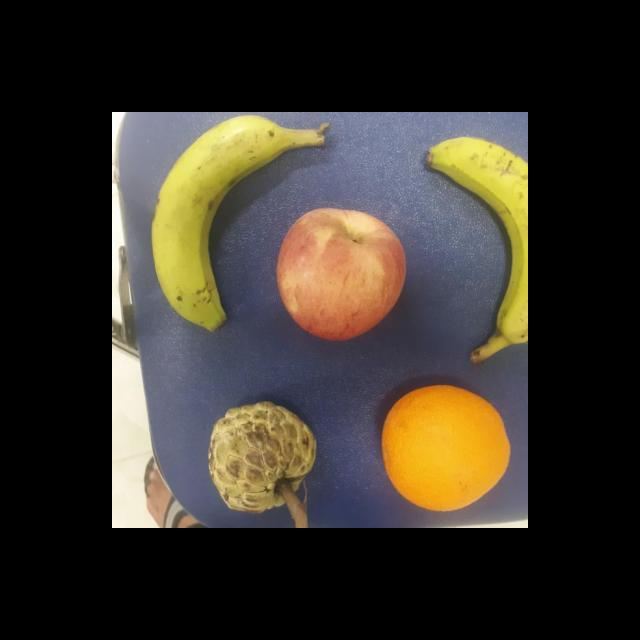Sakya fruit: (202, 400, 322, 514)
apple: (264, 202, 410, 348)
banana: (150, 112, 284, 335), (412, 134, 528, 352)
orange: (377, 377, 512, 512)
